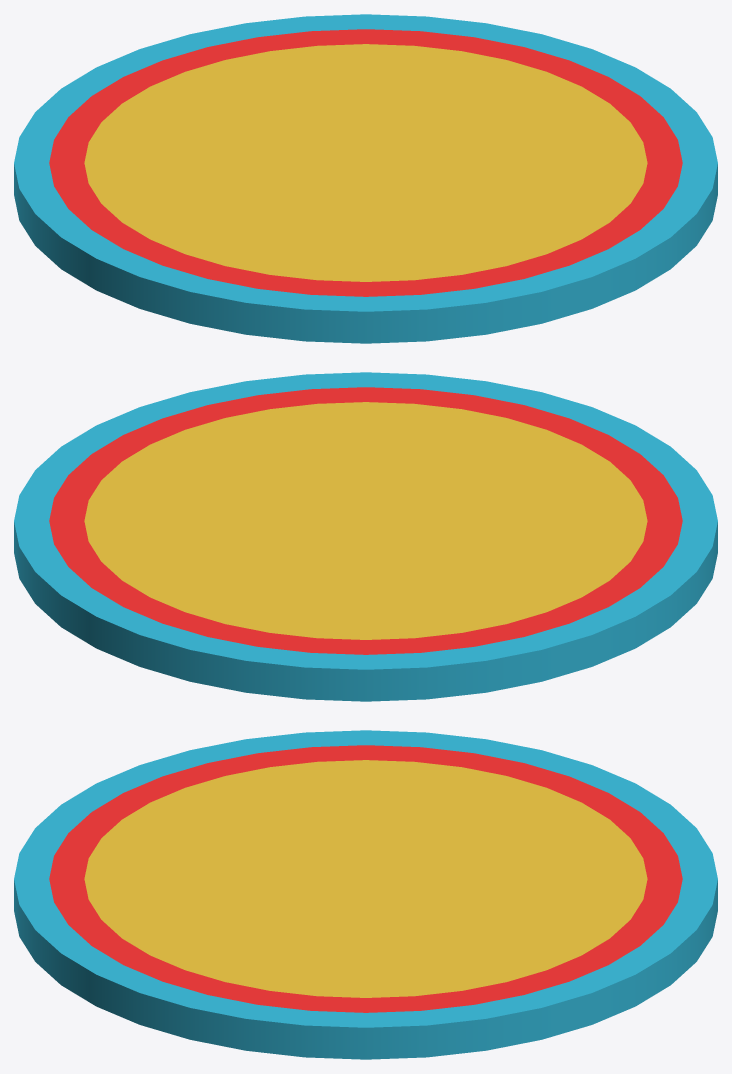
3 renders of one model, top to bottom at view 1: azimuth 30°, elevation 25°; view 2: azimuth 150°, elevation 25°; view 3: azimuth 270°, elevation 25°, orthographic.
Visible parts, largest first — view 1: Cylinder001; view 2: Cylinder001; view 3: Cylinder001.
Boxes of the visible parts, bbox=[...] form: Cylinder001: bbox=[14, 14, 717, 343]; Cylinder001: bbox=[14, 372, 717, 701]; Cylinder001: bbox=[14, 730, 717, 1059].
Size of the model in its own units: 600 by 30 by 600.
